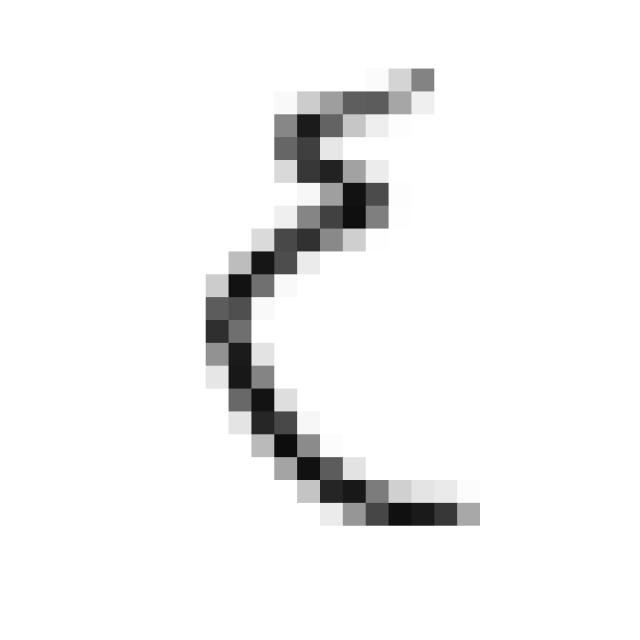4 -four-: (178, 46, 500, 547)
